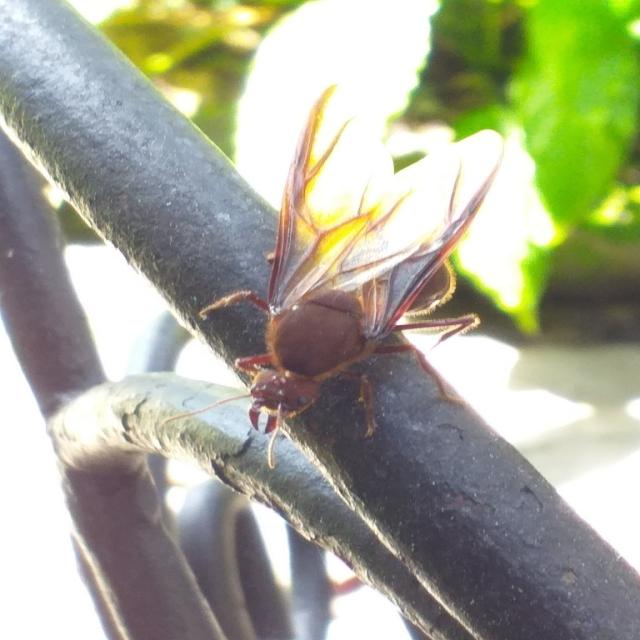Alive-Female-Alate: (160, 83, 507, 469)
